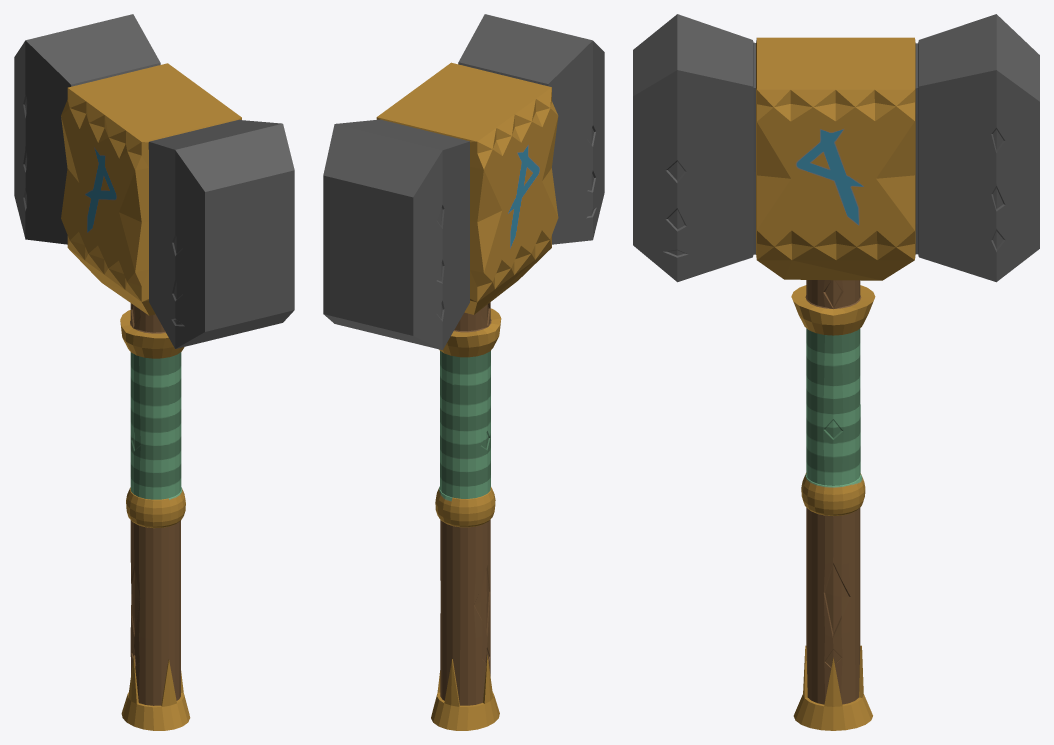
Rendered from 3D_Thor's_hammer.fbx.
3 views of the same model, side by side, from view 1: azimuth 30°, elevation 25°; view 2: azimuth 150°, elevation 25°; view 3: azimuth 270°, elevation 25° (orthographic). The views are drawn at different scales.
Parts seen in each view (by area): view 1: Thor_shammer; view 2: Thor_shammer; view 3: Thor_shammer.
Part boxes in pixels (x1,y1,x2,y2): Thor_shammer: (14, 14, 294, 730); Thor_shammer: (323, 14, 604, 730); Thor_shammer: (633, 14, 1039, 730).
Bounding box in the file's own units: 27.4 × 146 × 79.93.
1 material, 1 textured.
